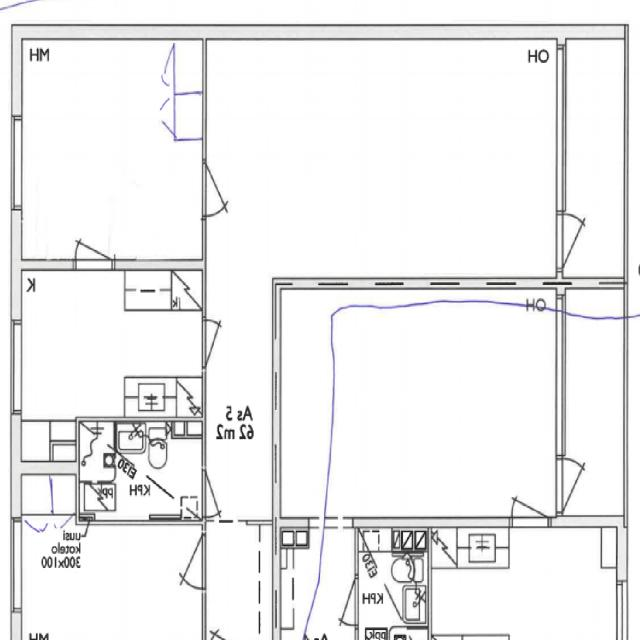door: (557, 212, 610, 270), (161, 533, 207, 586), (203, 162, 248, 216), (77, 209, 116, 270), (202, 316, 245, 366), (202, 470, 244, 517), (209, 600, 255, 640)
